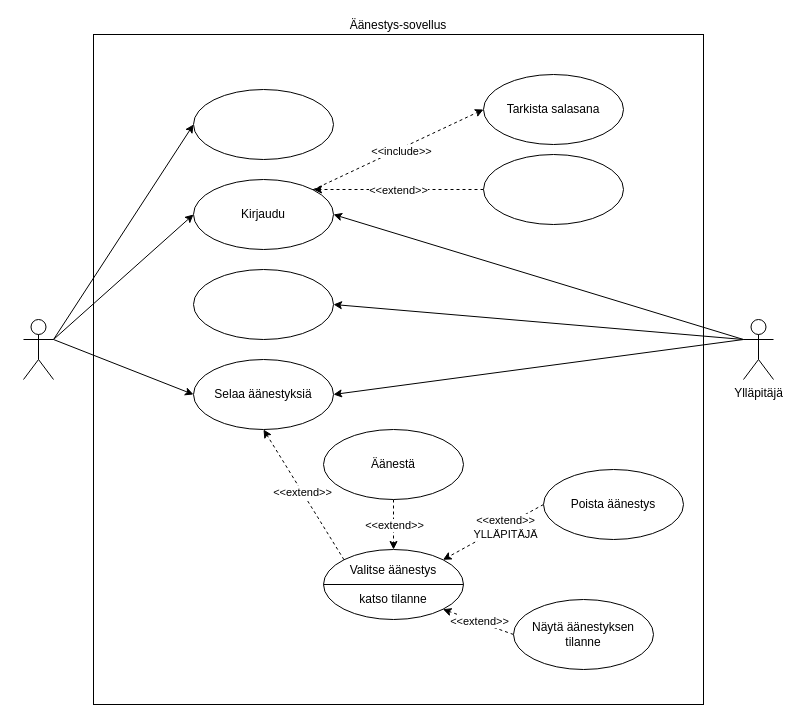
Image size: 800x722. Some labels were removed from this diagram. Here are the shapes that lost their labels. From the top down, the centre of each, then its label:
At [263,124]: "Rekisteröidy".
At [553,189]: "Näytä kirjautumisvirhe".
At [263,304]: "Luo äänestys".
At [38,349]: "Käyttäjä".
